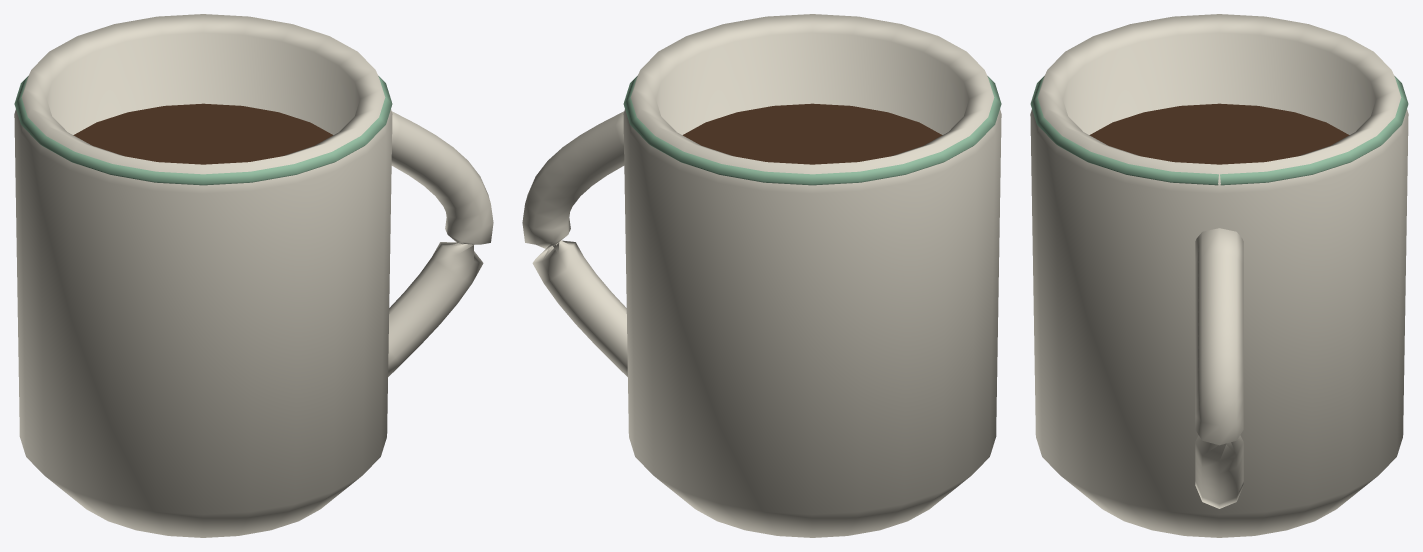
The model's file is tasse.glb.
3 renders of one model, left to right at view 1: azimuth 30°, elevation 25°; view 2: azimuth 150°, elevation 25°; view 3: azimuth 270°, elevation 25°, orthographic.
Visible parts, largest first — view 1: tasse; view 2: tasse; view 3: tasse.
Boxes of the visible parts, <box> form: tasse: <box>14,14,493,537</box>; tasse: <box>522,14,1001,537</box>; tasse: <box>1030,14,1408,537</box>.
Bounding box in the file's own units: 0.0965 × 0.08 × 0.07.
